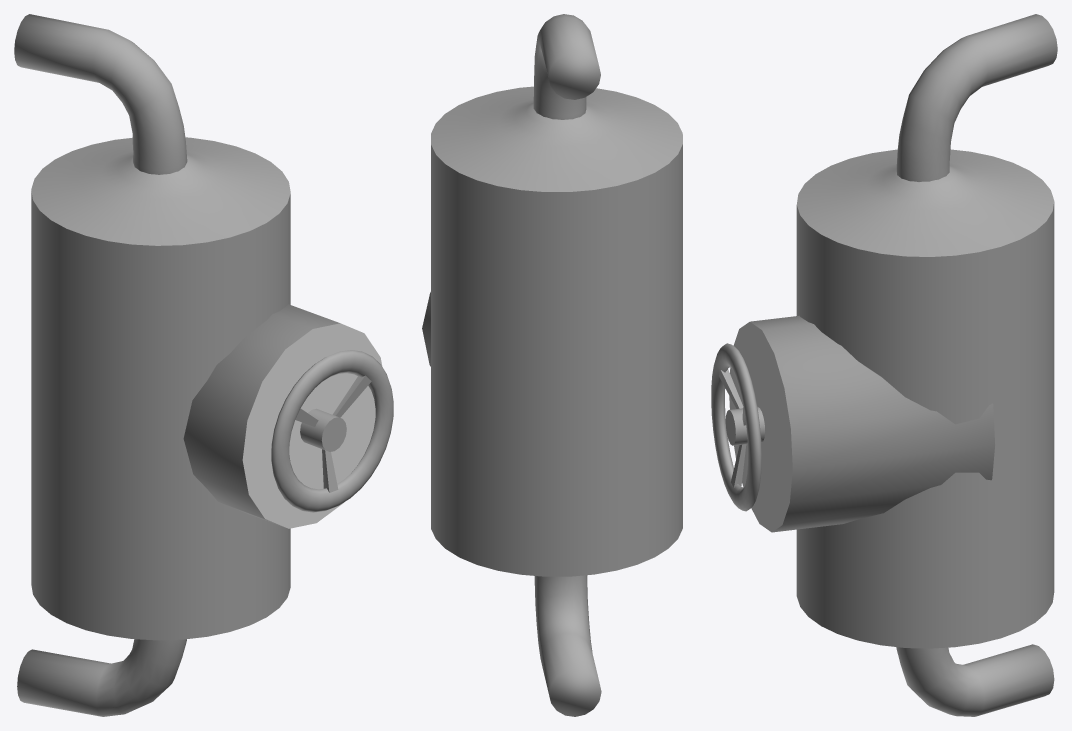
Rendered from -Gas Tank-.fbx.
The picture shows the model from 3 angles, left to right: view 1: azimuth 30°, elevation 25°; view 2: azimuth 150°, elevation 25°; view 3: azimuth 270°, elevation 25°; orthographic projection. The views are drawn at different scales.
Parts seen in each view (by area): view 1: Gas_Tank.Main, Gas_Tank.Main.001, Gas_Tank.Main.002, Gas_Tank.Main.003, Rocket Room 2.001; view 2: Gas_Tank.Main, Gas_Tank.Main.001; view 3: Gas_Tank.Main, Gas_Tank.Main.003, Gas_Tank.Main.001, Gas_Tank.Main.002, Rocket Room 2.001.
Part boxes in pixels (left/top/right/bottom): Gas_Tank.Main: left=31, top=137, right=290, bottom=640; Gas_Tank.Main.001: left=14, top=14, right=187, bottom=716; Gas_Tank.Main.002: left=242, top=323, right=382, bottom=528; Gas_Tank.Main.003: left=183, top=304, right=339, bottom=527; Rocket Room 2.001: left=271, top=350, right=393, bottom=512; Gas_Tank.Main: left=431, top=86, right=682, bottom=576; Gas_Tank.Main.001: left=533, top=14, right=601, bottom=716; Gas_Tank.Main: left=796, top=149, right=1054, bottom=648; Gas_Tank.Main.003: left=750, top=315, right=994, bottom=532; Gas_Tank.Main.001: left=896, top=14, right=1057, bottom=716; Gas_Tank.Main.002: left=729, top=322, right=792, bottom=532; Rocket Room 2.001: left=711, top=343, right=764, bottom=511.
Bounding box in the file's own units: 0.8717 × 2.1 × 0.9712.
